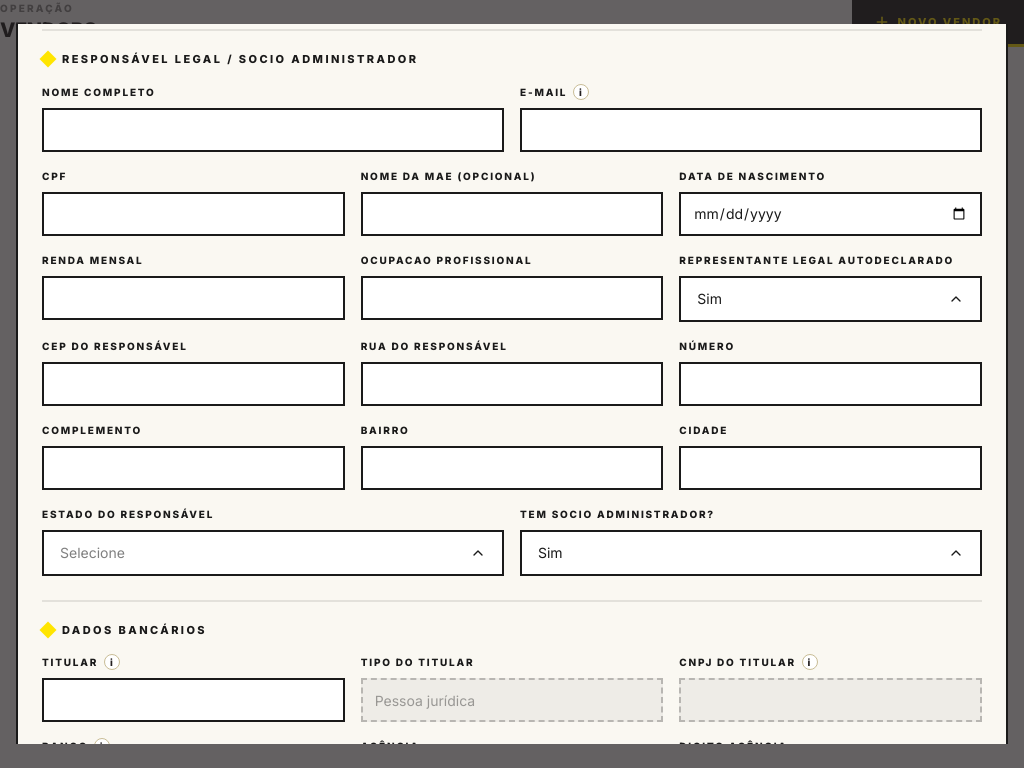
Test: VendorCreateLauncher — gate do botão › preenche o endereço do responsável a partir do CEP
(page scrolled)
In the field labelled "CEP do responsável": (193, 384) x1=42 y1=362 x2=345 y2=406, type "01310930"
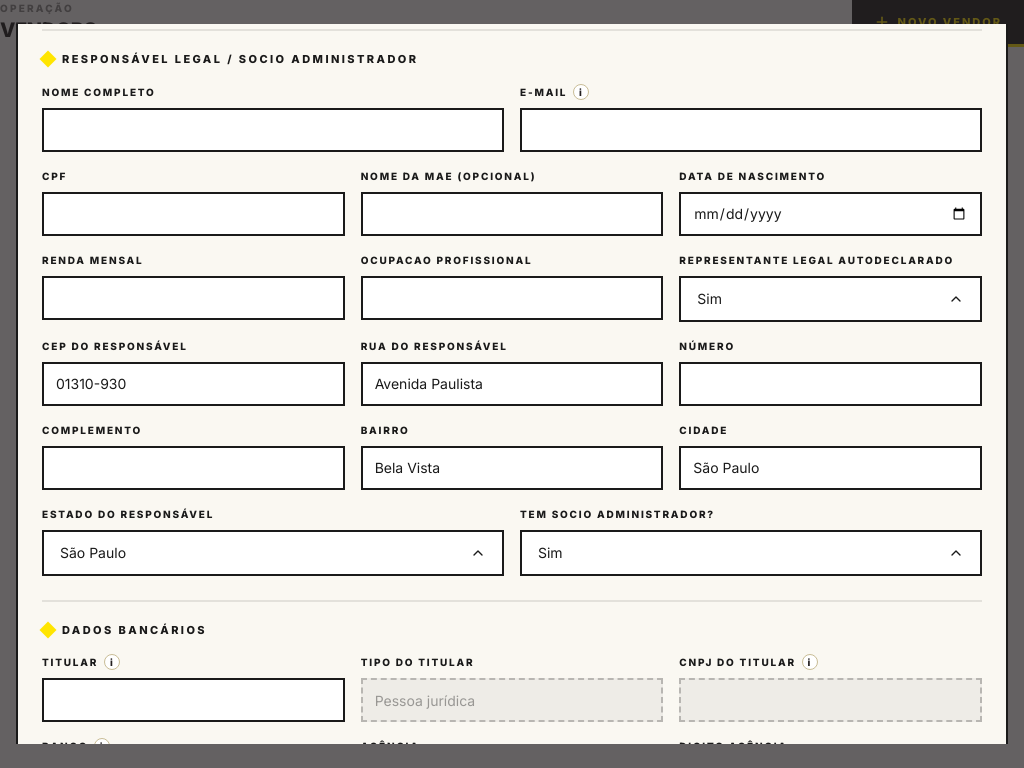
Expected: the field labelled "Rua do responsável" holds "Avenida Paulista", x1=361 y1=362 x2=663 y2=406
Expected: the field labelled "Bairro" holds "Bela Vista", x1=361 y1=446 x2=663 y2=490
Expected: the field labelled "Cidade" holds "São Paulo", x1=679 y1=446 x2=982 y2=490
